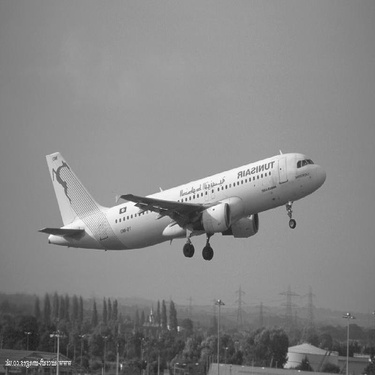airplane: (37, 141, 328, 260)
